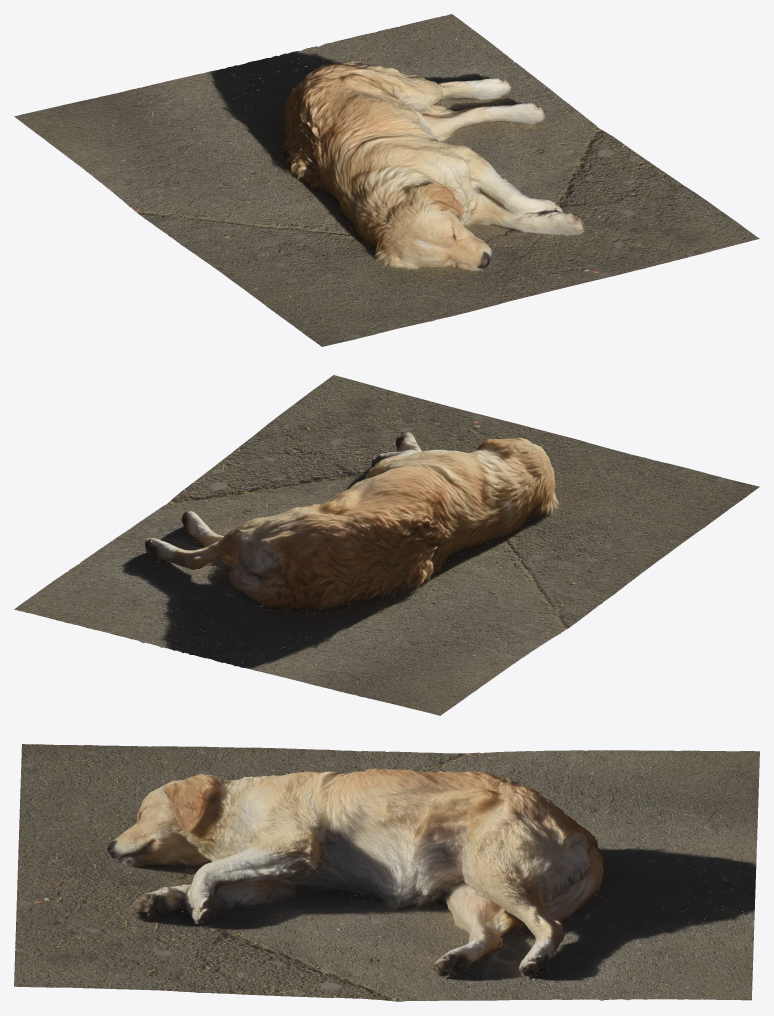
Rendered from dog.glb.
3 renders of one model, top to bottom at view 1: azimuth 30°, elevation 25°; view 2: azimuth 150°, elevation 25°; view 3: azimuth 270°, elevation 25°, orthographic. The views are drawn at different scales.
Visible parts, largest first — view 1: Object_2, Object_3; view 2: Object_2, Object_3; view 3: Object_2, Object_3.
Boxes of the visible parts, left/top/right/bottom form: Object_2: left=41, top=14, right=759, bottom=311; Object_3: left=14, top=17, right=655, bottom=346; Object_2: left=14, top=375, right=687, bottom=697; Object_3: left=26, top=425, right=759, bottom=715; Object_2: left=14, top=752, right=758, bottom=1000; Object_3: left=19, top=744, right=759, bottom=1001.
Size of the model in its own units: 1.37 by 0.2384 by 1.71.
Materials: 2 (2 with a texture image).
